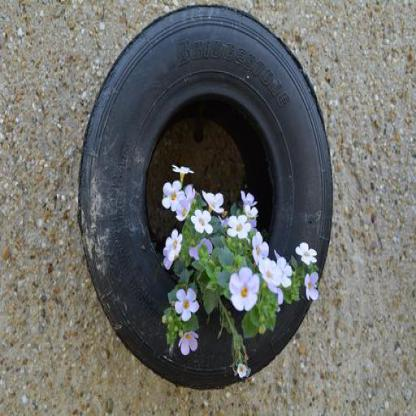Tire: (76, 3, 333, 392)
